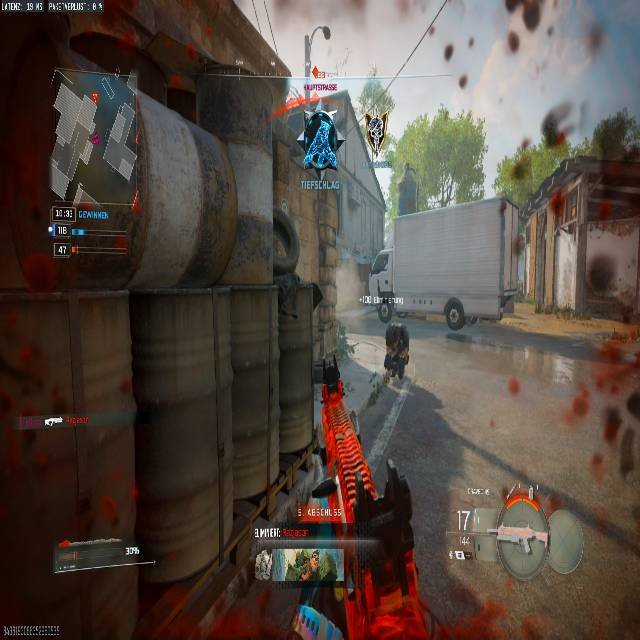player: (300, 106, 340, 171), (382, 321, 410, 389)
